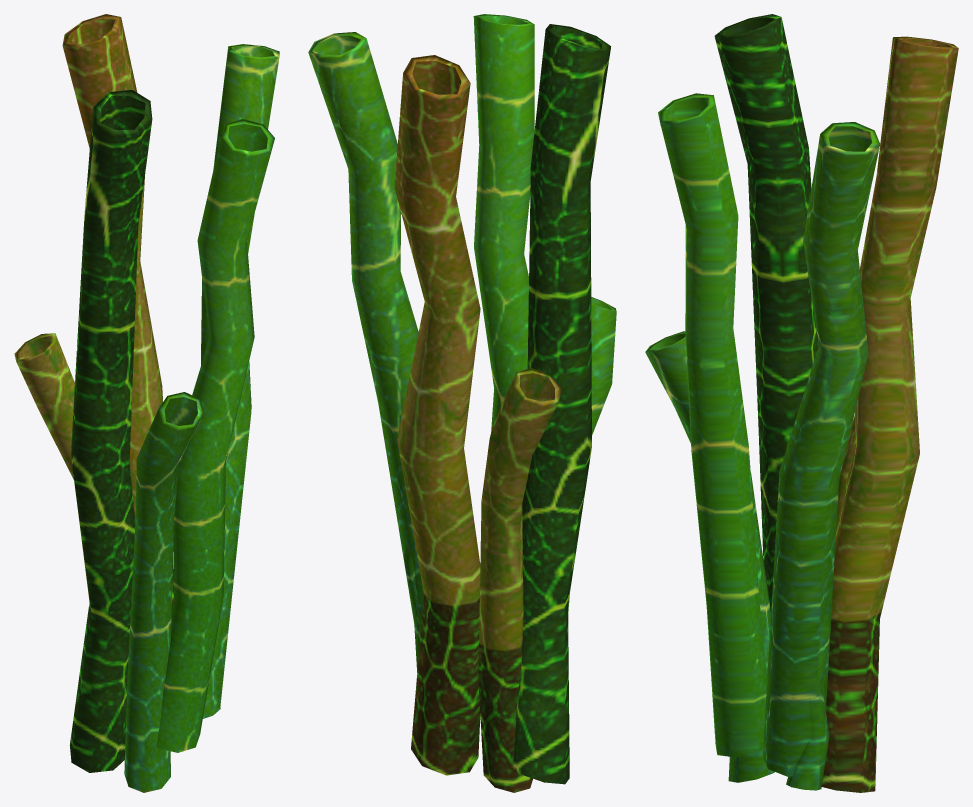
File: VEG0410016.fbx
3 views of the same model, side by side, from view 1: azimuth 30°, elevation 25°; view 2: azimuth 150°, elevation 25°; view 3: azimuth 270°, elevation 25° (orthographic). The views are drawn at different scales.
Parts seen in each view (by area): view 1: smVEG0410016; view 2: smVEG0410016; view 3: smVEG0410016.
Part boxes in pixels (<box>): smVEG0410016: <box>14,14,279,792</box>; smVEG0410016: <box>308,14,616,792</box>; smVEG0410016: <box>645,14,958,792</box>.
Size of the model in its own units: 47.18 by 128 by 47.77.
1 material, 1 textured.
